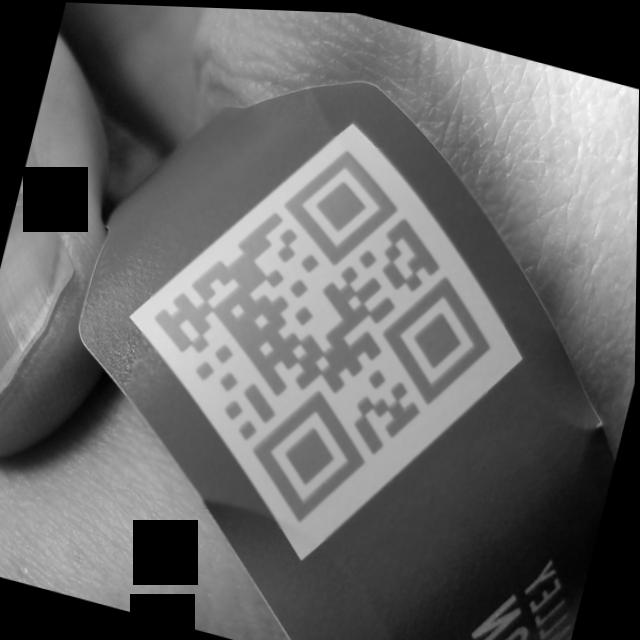QR_CODE: (106, 96, 539, 571)
